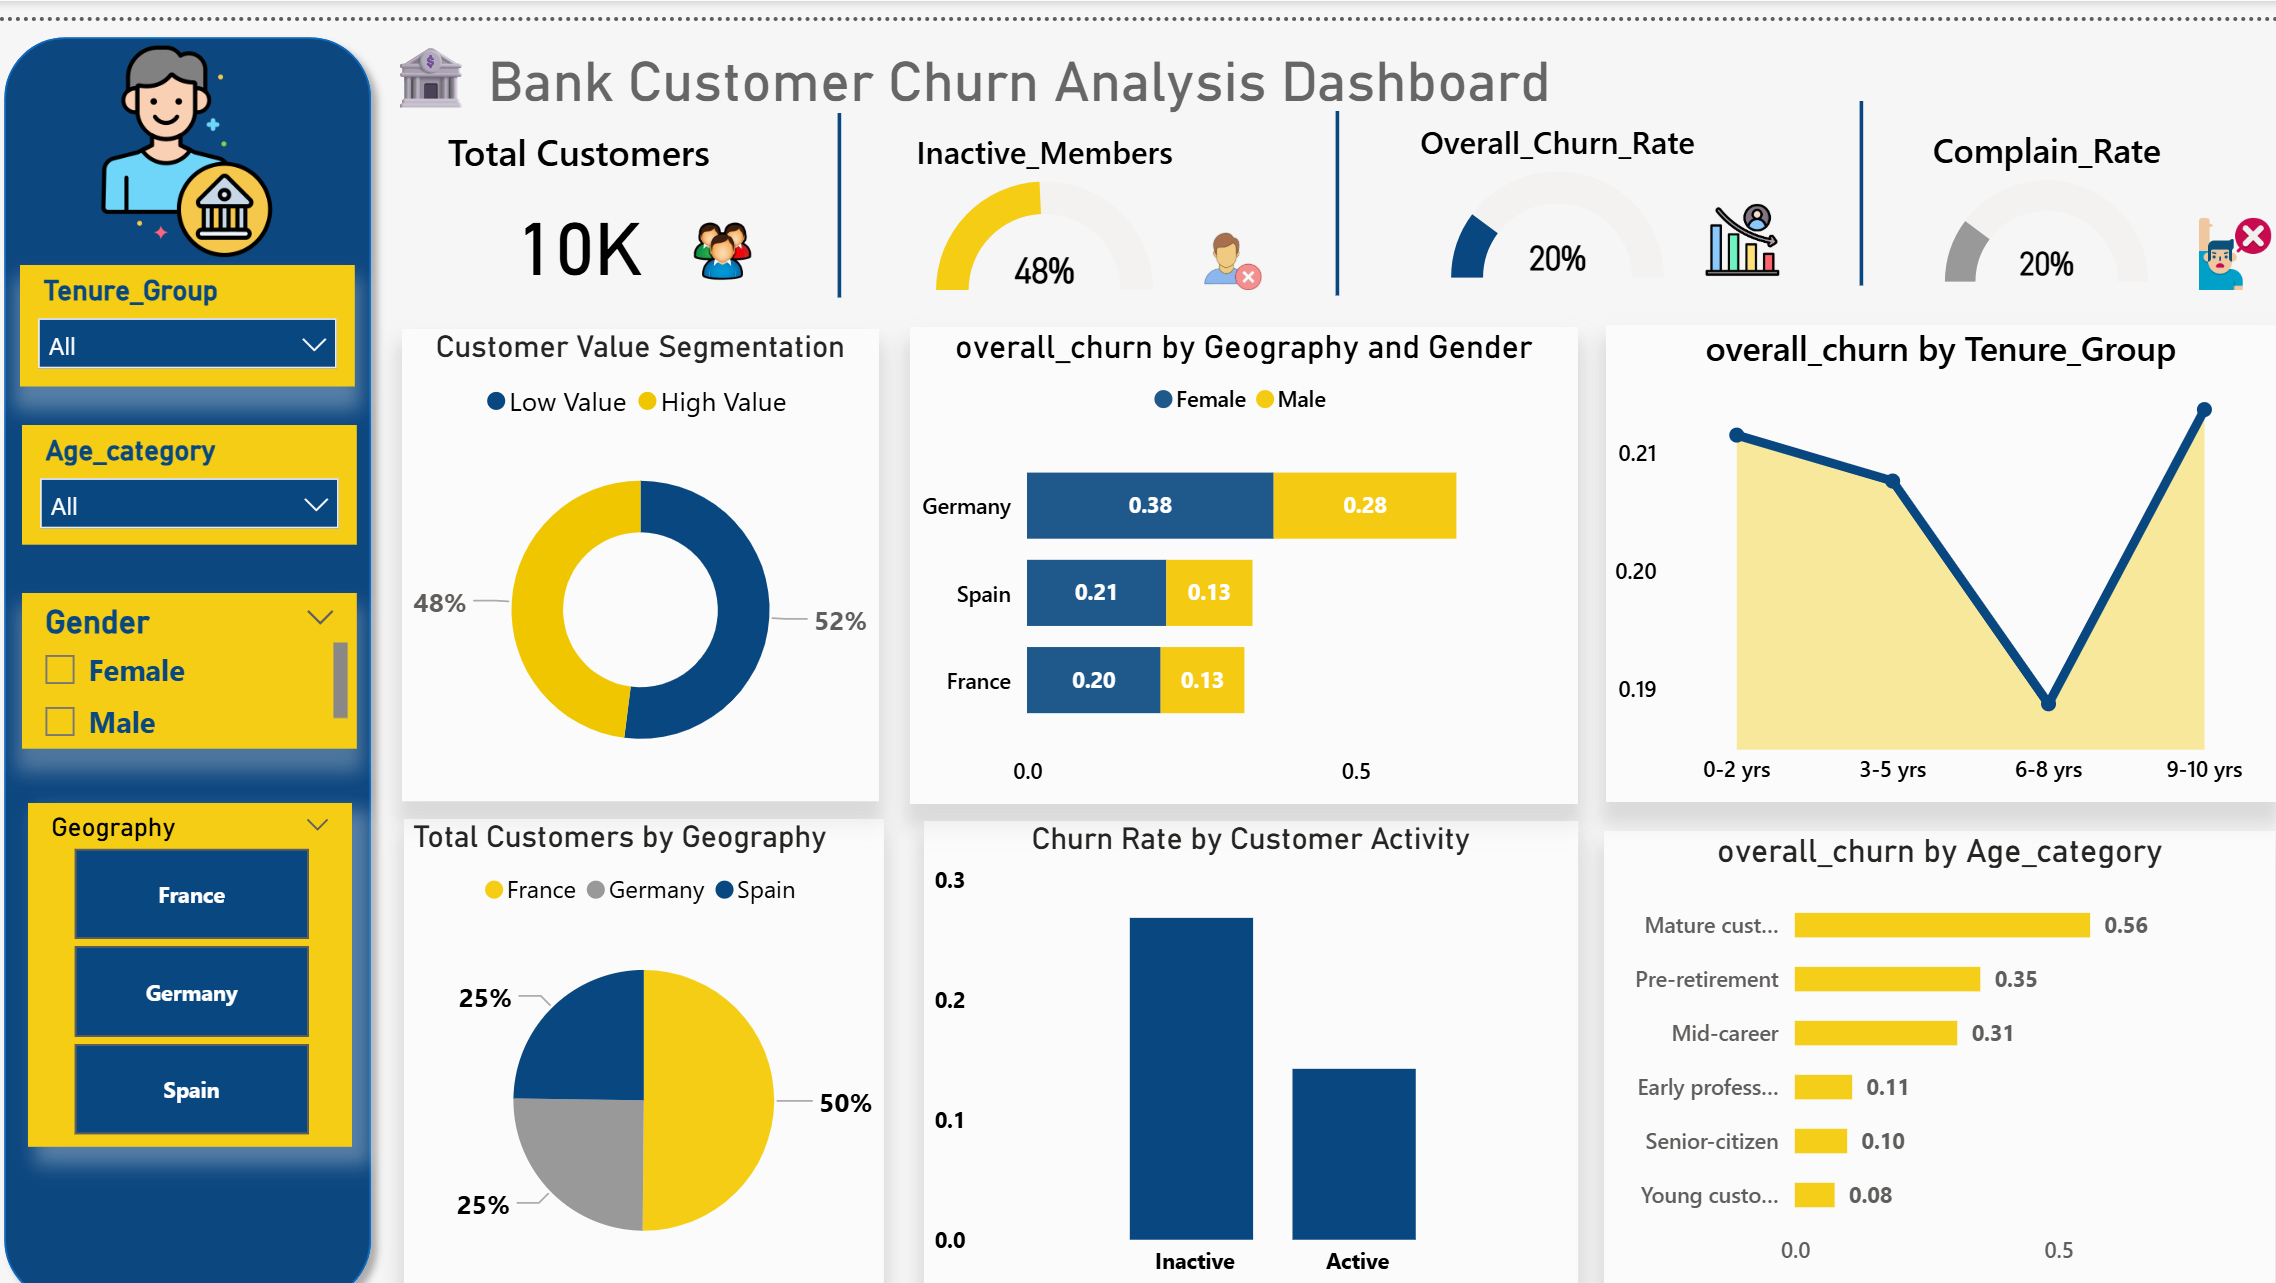

What the dashboard file says about the page in this screenshot:
{"tool":"powerbi","page":{"name":"Page 1","canvas":[1280,720],"ordinal":0},"visuals":[{"type":"shape","title":"🏦 Bank Customer Churn Analysis Dashboard","box":[222.3,6.9,685.4,48.4],"z":0},{"type":"card","title":"Total Customers","fields":{"Values":["Measure_Table.Total Customers"]},"box":[222.3,58.8,212,100.2],"z":1000},{"type":"lineChart","fields":{"Category":["shania customer_churn.Tenure_Group"],"Y":["Measure_Table.overall_churn"]},"box":[898.6,169.3,372.1,265],"z":2000},{"type":"barChart","fields":{"Series":["shania customer_churn.Gender"],"Category":["shania customer_churn.Geography"],"Y":["Measure_Table.overall_churn"]},"box":[512.6,170.5,370.9,265],"z":3000},{"type":"clusteredBarChart","fields":{"Category":["shania customer_churn.Age_category"],"Y":["Measure_Table.overall_churn"]},"box":[897.4,450.4,373.2,251.1],"z":4000},{"type":"gauge","title":"Overall_Churn_Rate","fields":{"Y":["Measure_Table.overall_churn"]},"box":[768.4,55.3,206.2,92.2],"z":5000},{"type":"gauge","title":"Complain_Rate","fields":{"Y":["Measure_Table.Complaint %"]},"box":[1040.3,58.8,207.4,91],"z":6000},{"type":"image","box":[1216.3,96.9,63.7,65],"z":7000},{"type":"image","box":[946.9,95.6,56.4,51.8],"z":8000},{"type":"image","box":[362.9,104.8,89.9,47.2],"z":9000},{"type":"gauge","title":"Inactive_Members","fields":{"Y":["Measure_Table.Inactive Member %"]},"box":[483.8,61.1,207.4,93.3],"z":10000},{"type":"image","box":[670.5,104.8,42.6,57.6],"z":11000},{"type":"shape","box":[74.6,84.1,12.7,103.3],"z":12000},{"type":"shape","box":[1034.5,44.9,12.7,102.5],"z":13000},{"type":"shape","box":[0,0,221.8,720.3],"z":14000},{"type":"donutChart","title":"Customer Value Segmentation","fields":{"Category":["shania customer_churn.Value Segment"],"Y":["Measure_Table.Total Customers"]},"box":[230.4,171.6,265,262.7],"z":15000},{"type":"pieChart","fields":{"Category":["shania customer_churn.Geography"],"Y":["Measure_Table.Total Customers"]},"box":[230.8,443.7,266.5,263.9],"z":16000},{"type":"shape","box":[743,49.5,12.7,102.5],"z":17000},{"type":"shape","box":[466.6,50.7,12.7,102.5],"z":18000},{"type":"clusteredColumnChart","title":"Churn Rate by Customer Activity","fields":{"Y":["Measure_Table.overall_churn"],"Category":["shania customer_churn.Active Status"]},"box":[520.2,444.9,363.3,262.6],"z":19000},{"type":"slicer","fields":{"Values":["shania customer_churn.Gender"]},"box":[19.1,317.5,186.1,86.7],"z":20000},{"type":"image","box":[47.2,6.4,127.5,131.3],"z":21000},{"type":"slicer","fields":{"Values":["shania customer_churn.Geography"]},"box":[21.7,434.7,179.8,191.2],"z":22000},{"type":"slicer","fields":{"Values":["shania customer_churn.Tenure_Group"]},"box":[17.8,135.1,186.1,67.6],"z":23000},{"type":"slicer","fields":{"Values":["shania customer_churn.Age_category"]},"box":[19.1,224.4,186.1,66.3],"z":24000}]}

Visuals, with their boxes in screenshot pixels (x1, y1, x2, y2), scaled from the page's 1280x720 canvas onto the 2276x1283 screenshot:
"🏦 Bank Customer Churn Analysis Dashboard" shape: locate(395, 12, 1614, 99)
"Total Customers" card: locate(395, 105, 772, 283)
lineChart - shania customer_churn.Tenure_Group x Measure_Table.overall_churn: locate(1598, 302, 2259, 774)
barChart - shania customer_churn.Gender x shania customer_churn.Geography: locate(911, 304, 1571, 776)
clusteredBarChart - shania customer_churn.Age_category x Measure_Table.overall_churn: locate(1596, 803, 2259, 1250)
"Overall_Churn_Rate" gauge: locate(1366, 99, 1733, 263)
"Complain_Rate" gauge: locate(1850, 105, 2219, 267)
image: locate(2163, 173, 2275, 288)
image: locate(1684, 170, 1784, 263)
image: locate(645, 187, 805, 271)
"Inactive_Members" gauge: locate(860, 109, 1229, 275)
image: locate(1192, 187, 1268, 289)
shape: locate(133, 150, 155, 334)
shape: locate(1839, 80, 1862, 263)
shape: locate(0, 0, 394, 1282)
"Customer Value Segmentation" donutChart: locate(410, 306, 881, 774)
pieChart - shania customer_churn.Geography x Measure_Table.Total Customers: locate(410, 791, 884, 1261)
shape: locate(1321, 88, 1344, 271)
shape: locate(830, 90, 852, 273)
"Churn Rate by Customer Activity" clusteredColumnChart: locate(925, 793, 1571, 1261)
slicer - shania customer_churn.Gender: locate(34, 566, 365, 720)
image: locate(84, 11, 311, 245)
slicer - shania customer_churn.Geography: locate(39, 775, 358, 1115)
slicer - shania customer_churn.Tenure_Group: locate(32, 241, 363, 361)
slicer - shania customer_churn.Age_category: locate(34, 400, 365, 518)
